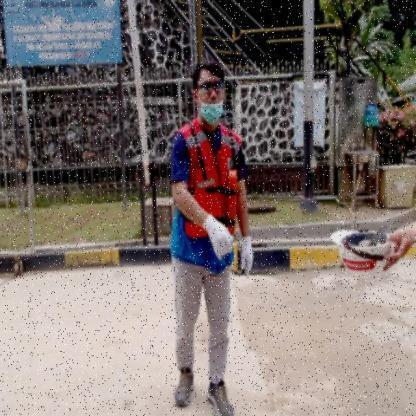boots: (206, 377, 237, 415), (173, 362, 196, 410)
gloves: (200, 214, 236, 260), (240, 235, 256, 277)
goggles: (199, 80, 224, 93)
helmet: (326, 227, 392, 276)
mask: (200, 100, 224, 124)
vest: (184, 170, 237, 236)
